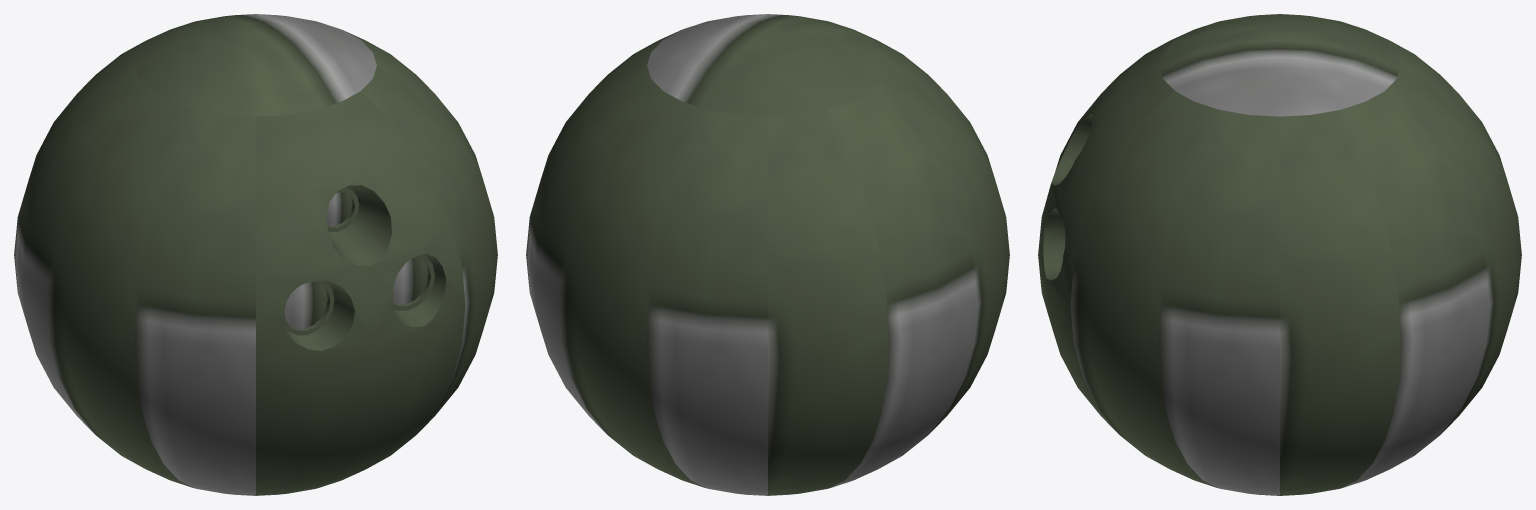
The model's file is zenit.obj.
3 renders of one model, left to right at view 1: azimuth 30°, elevation 25°; view 2: azimuth 150°, elevation 25°; view 3: azimuth 270°, elevation 25°, orthographic.
Visible parts, largest first — view 1: 1, w1; view 2: 1; view 3: 1.
Boxes of the visible parts, x1,y1,x2,y2 form: 1: (14, 14, 497, 495); w1: (284, 192, 428, 329); 1: (526, 14, 1009, 495); 1: (1038, 14, 1521, 495).
Size of the model in its own units: 1.25 by 1.25 by 1.25.
